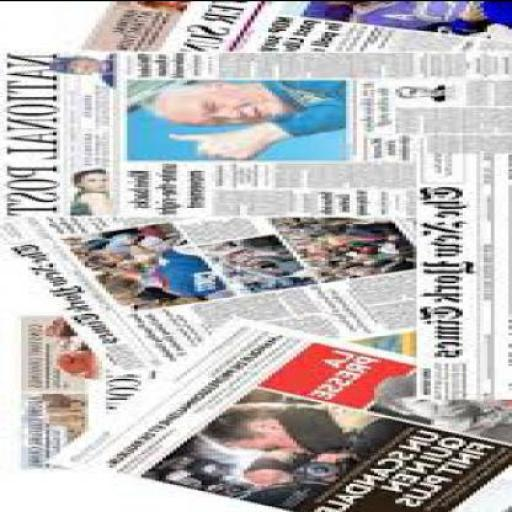paper: (46, 313, 508, 510), (0, 47, 508, 214), (0, 212, 410, 372), (15, 312, 293, 468), (406, 148, 508, 398), (78, 0, 508, 49)
